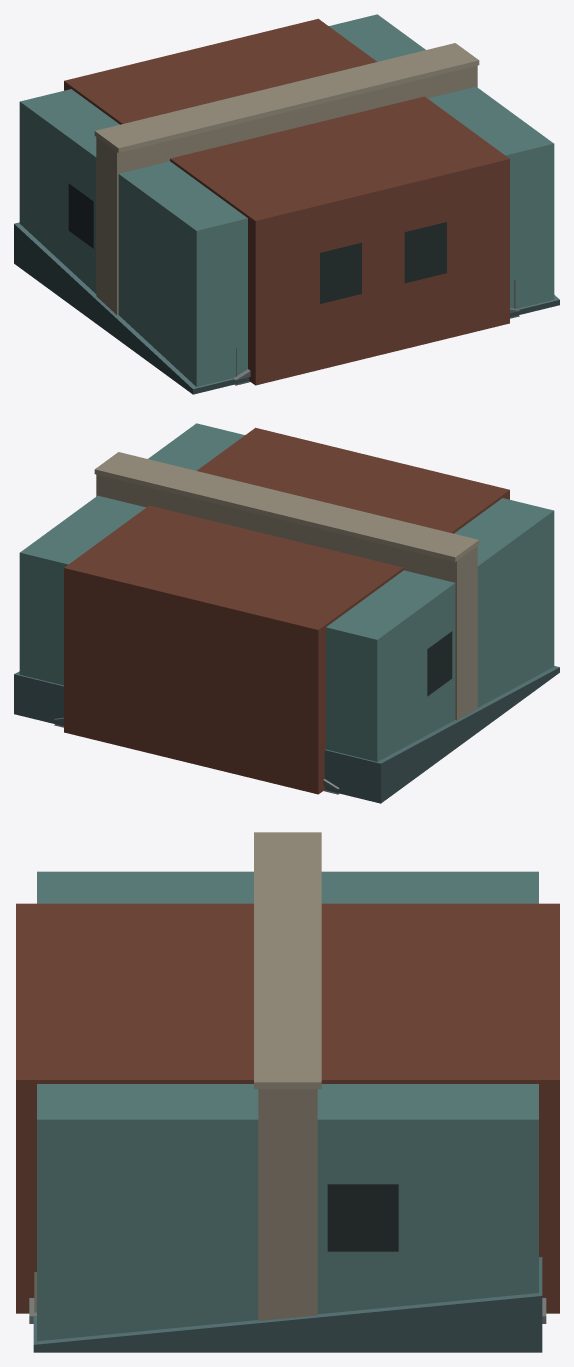
Rendered from vista_far.glb.
3 views of the same model, one above another, from view 1: azimuth 30°, elevation 25°; view 2: azimuth 150°, elevation 25°; view 3: azimuth 270°, elevation 25° (orthographic). The views are drawn at different scales.
Parts seen in each view (by area): view 1: vista_upper_corner_far-0, vista_ground_pair_far-0, vista_wall_concrete_far-0, vista_roof_tin_blue_far-0; view 2: vista_upper_corner_far-0, vista_ground_pair_far-0, vista_wall_concrete_far-0, vista_roof_tin_blue_far-0; view 3: vista_ground_pair_far-0, vista_upper_corner_far-0, vista_wall_concrete_far-0, vista_roof_tin_blue_far-0.
Boxes of the visible parts, left/top/right/bottom form: vista_upper_corner_far-0: left=64, top=18, right=509, bottom=385; vista_ground_pair_far-0: left=19, top=14, right=554, bottom=386; vista_wall_concrete_far-0: left=94, top=43, right=479, bottom=315; vista_roof_tin_blue_far-0: left=14, top=222, right=559, bottom=394; vista_upper_corner_far-0: left=64, top=427, right=509, bottom=794; vista_ground_pair_far-0: left=19, top=423, right=554, bottom=761; vista_wall_concrete_far-0: left=94, top=452, right=479, bottom=720; vista_roof_tin_blue_far-0: left=14, top=666, right=559, bottom=803; vista_ground_pair_far-0: left=37, top=871, right=538, bottom=1341; vista_upper_corner_far-0: left=16, top=903, right=559, bottom=1313; vista_wall_concrete_far-0: left=254, top=832, right=321, bottom=1320; vista_roof_tin_blue_far-0: left=33, top=1257, right=542, bottom=1352.
Bounding box in the file's own units: 7.12 × 3.5 × 6.46.
